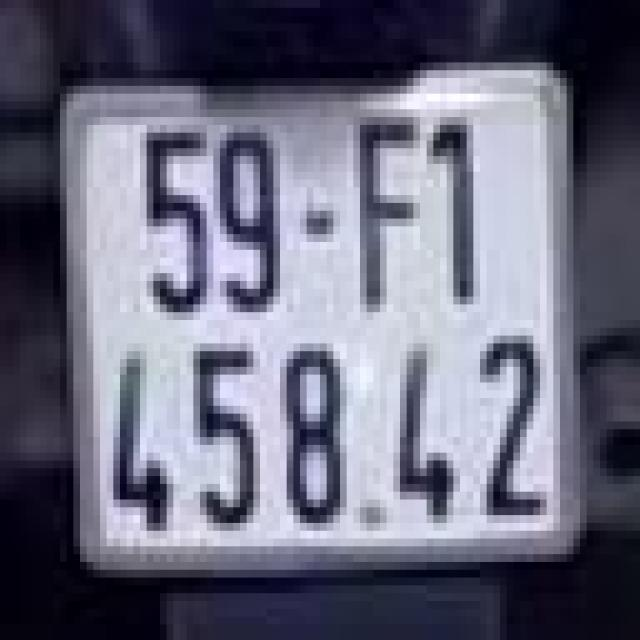1: (424, 97, 504, 324)
2: (467, 304, 560, 531)
4: (380, 320, 460, 531), (107, 340, 180, 550)
5: (180, 332, 273, 534), (137, 109, 210, 320)
8: (270, 332, 357, 542)
9: (210, 125, 283, 320)
F: (343, 98, 430, 316)
